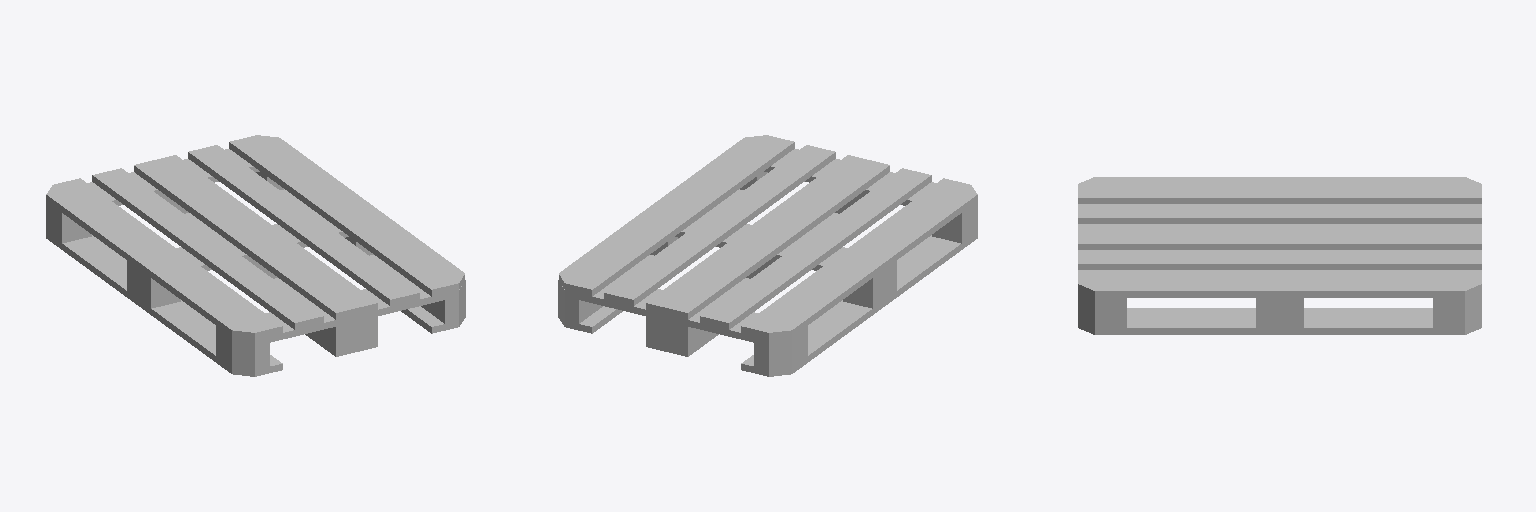
File: palette_euro_1200x800.obj
3 renders of one model, left to right at view 1: azimuth 30°, elevation 25°; view 2: azimuth 150°, elevation 25°; view 3: azimuth 270°, elevation 25°, orthographic.
Parts seen in each view (by area): view 1: palette_plank4, palette_plank8, palette_plank7, palette_plank5, palette_plank6, palette_plank11, palette_plank2, palette_block2, palette_block8, palette_plank10, palette_block4, palette_block7 (+4 smaller); view 2: palette_plank4, palette_plank8, palette_plank7, palette_plank5, palette_plank6, palette_plank11, palette_plank3, palette_block3, palette_block7, palette_plank10, palette_block4, palette_block8 (+4 smaller); view 3: palette_plank7, palette_plank8, palette_plank4, palette_plank6, palette_plank5, palette_plank10, palette_block9, palette_block6, palette_block5.
Boxes of the visible parts, <box> form: palette_plank4: <box>134,155,377,319</box>; palette_plank8: <box>46,178,282,339</box>; palette_plank7: <box>229,135,464,296</box>; palette_plank5: <box>188,145,419,306</box>; palette_plank6: <box>92,168,323,329</box>; palette_plank11: <box>46,232,282,376</box>; palette_plank2: <box>216,279,465,345</box>; palette_block2: <box>312,317,377,349</box>; palette_block8: <box>216,333,269,369</box>; palette_plank10: <box>280,189,465,333</box>; palette_block4: <box>127,267,180,308</box>; palette_block7: <box>46,208,91,243</box>; palette_plank4: <box>646,155,889,319</box>; palette_plank8: <box>741,178,977,339</box>; palette_plank7: <box>559,135,794,296</box>; palette_plank5: <box>604,145,835,306</box>; palette_plank6: <box>700,168,931,329</box>; palette_plank11: <box>741,232,977,376</box>; palette_plank3: <box>558,279,807,345</box>; palette_block3: <box>646,317,711,349</box>; palette_block7: <box>754,333,807,369</box>; palette_plank10: <box>558,189,743,333</box>; palette_block4: <box>843,267,896,308</box>; palette_block8: <box>932,208,977,243</box>; palette_plank7: <box>1078,270,1481,297</box>; palette_plank8: <box>1078,177,1481,203</box>; palette_plank4: <box>1078,224,1481,249</box>; palette_plank6: <box>1078,204,1481,223</box>; palette_plank5: <box>1078,250,1481,269</box>; palette_plank10: <box>1078,308,1481,334</box>; palette_block9: <box>1078,298,1126,327</box>; palette_block6: <box>1433,298,1481,327</box>; palette_block5: <box>1256,304,1303,327</box>.
Bounding box in the file's own units: 0.8 × 0.144 × 1.2.